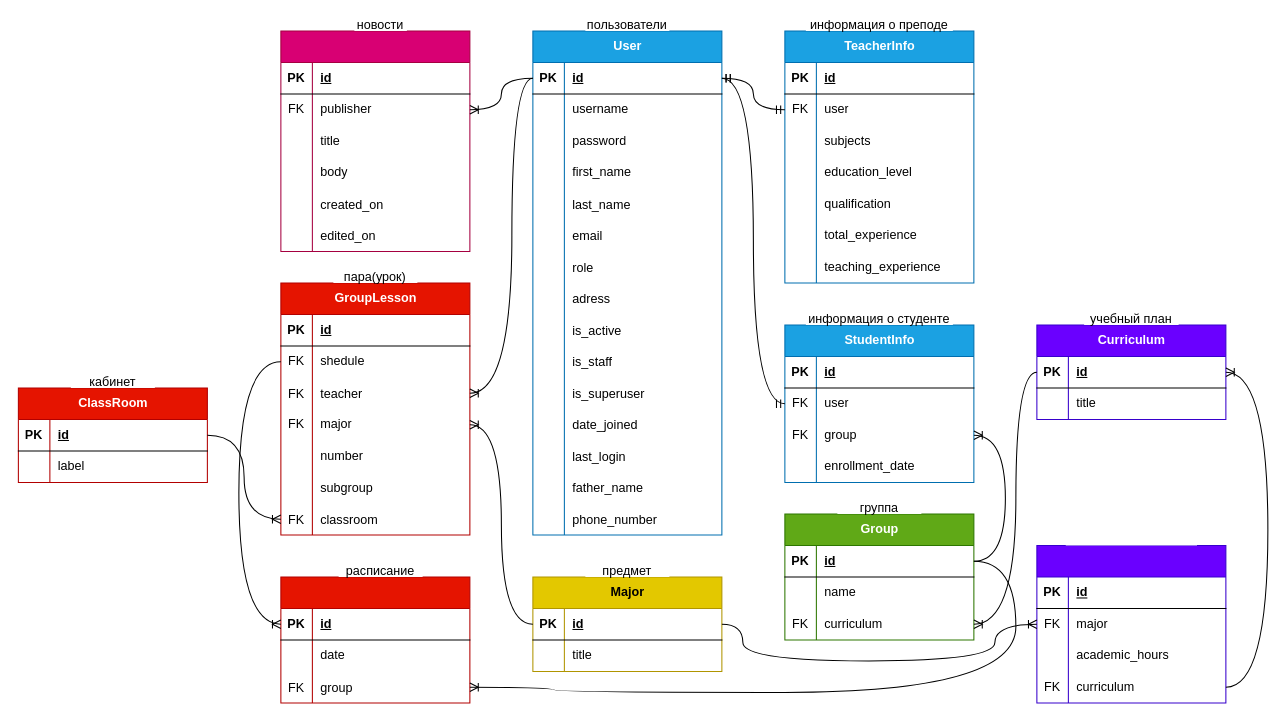
The diagram is 1286 pixels wide and 721 high, and some of its shapes have lost their labels. The box of each missing label's shape, as (x1, y1, x2, y2) in pixels:
CurriculumMajors: (1036, 544, 1226, 703)
News: (280, 30, 470, 251)
Schedule: (280, 576, 470, 703)
все предметы и часы в учебном плане: (1065, 503, 1196, 545)
